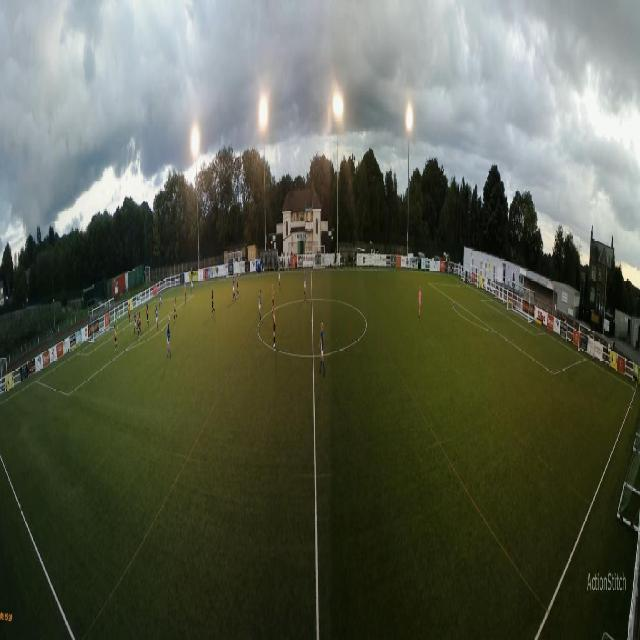ball: (139, 273, 140, 279)
player: (319, 321, 325, 376), (272, 305, 276, 349), (418, 283, 422, 319), (167, 321, 171, 357), (114, 324, 118, 353), (304, 268, 307, 303), (236, 271, 239, 303), (259, 289, 262, 320), (272, 283, 275, 311), (211, 290, 214, 318), (155, 304, 158, 330), (146, 303, 149, 328), (134, 310, 137, 332), (128, 304, 131, 324), (191, 265, 193, 294), (137, 312, 139, 339), (233, 274, 235, 300), (116, 311, 119, 328), (174, 296, 176, 321), (279, 264, 281, 288), (184, 286, 187, 302), (139, 312, 141, 334), (159, 289, 161, 309)
